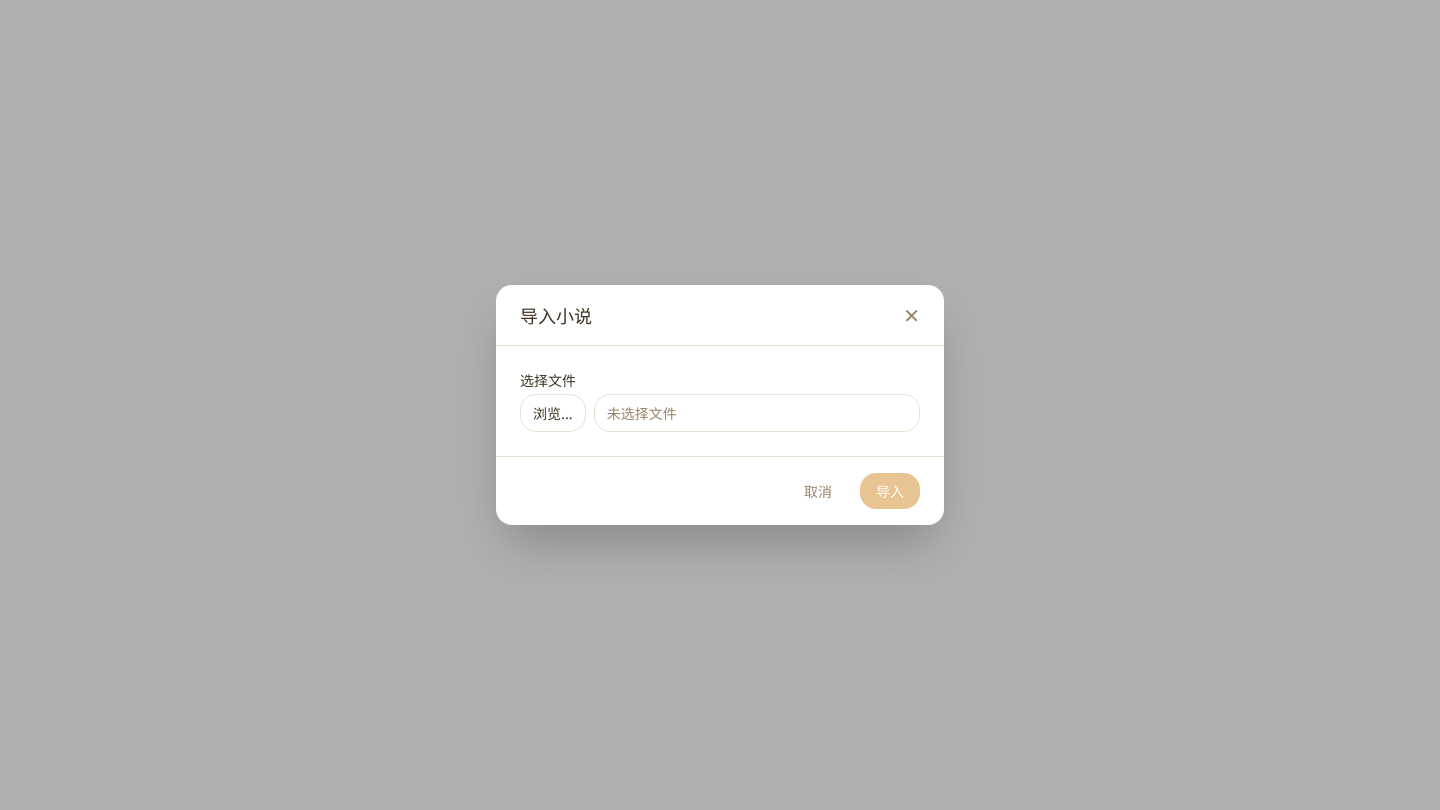
Test case: ImportNovelDialog › should select file and show file name
Step 1. Click the button "浏览..." → [553, 413], box x1=520 y1=394 x2=586 y2=432
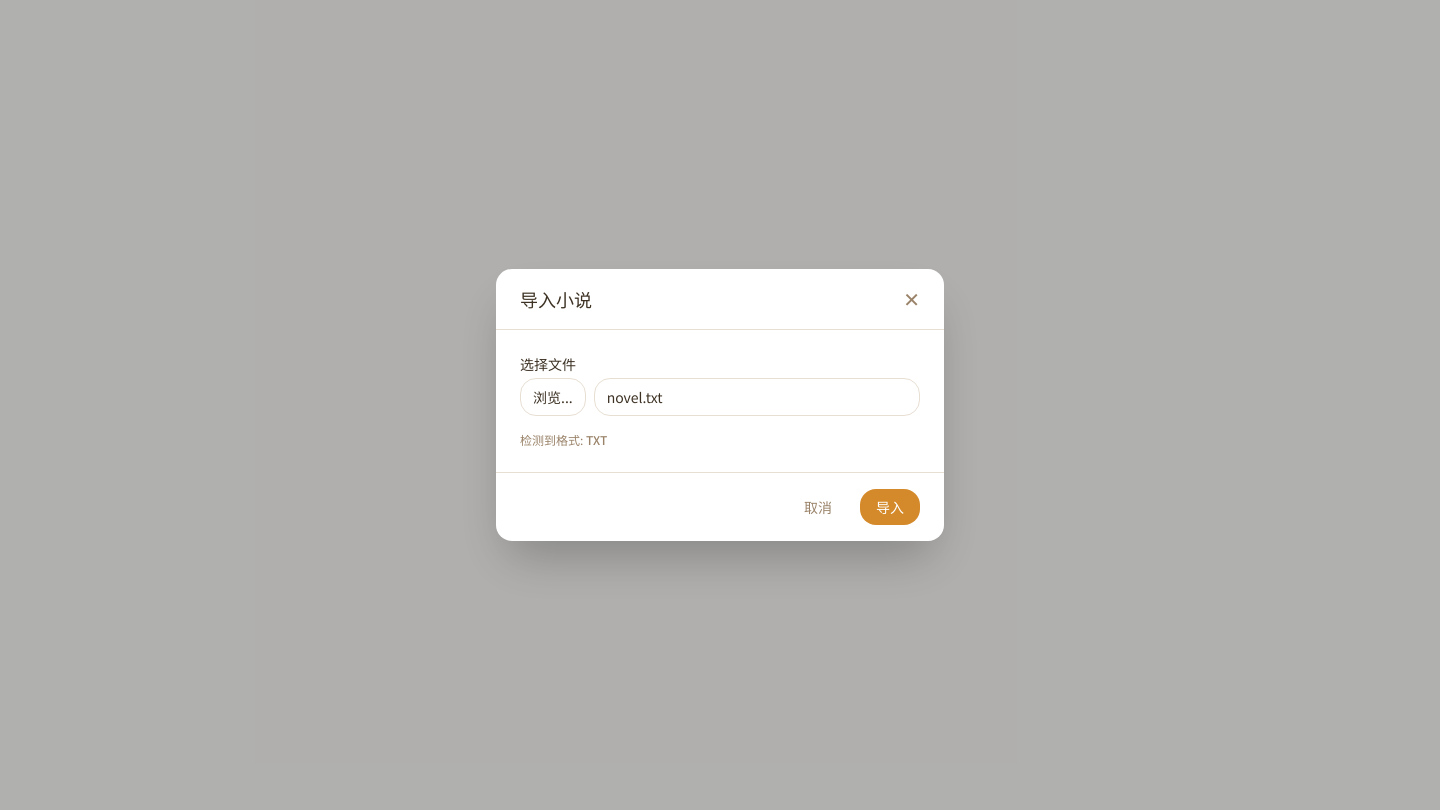
Expected: the text "novel.txt" is shown, x1=594 y1=378 x2=920 y2=416
Expected: the text "检测到格式: TXT" is shown, x1=520 y1=431 x2=607 y2=448
